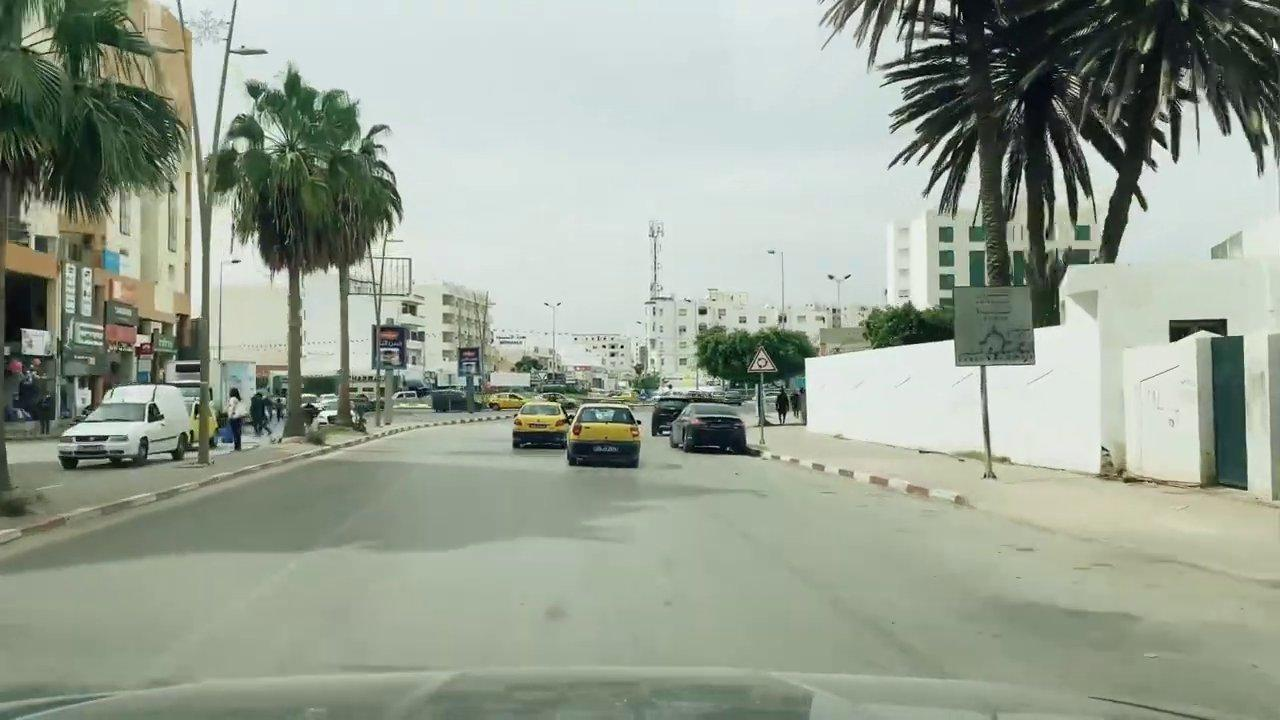roundabout: (744, 344, 781, 375)
